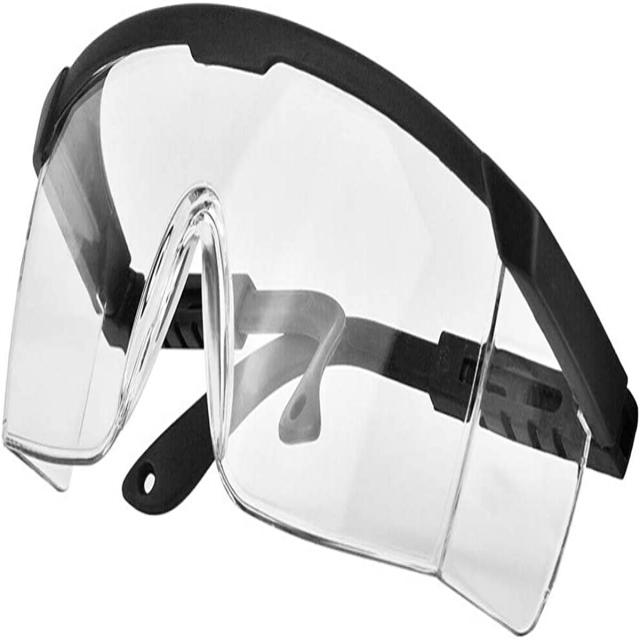Protective Glasses: (1, 1, 640, 639)
